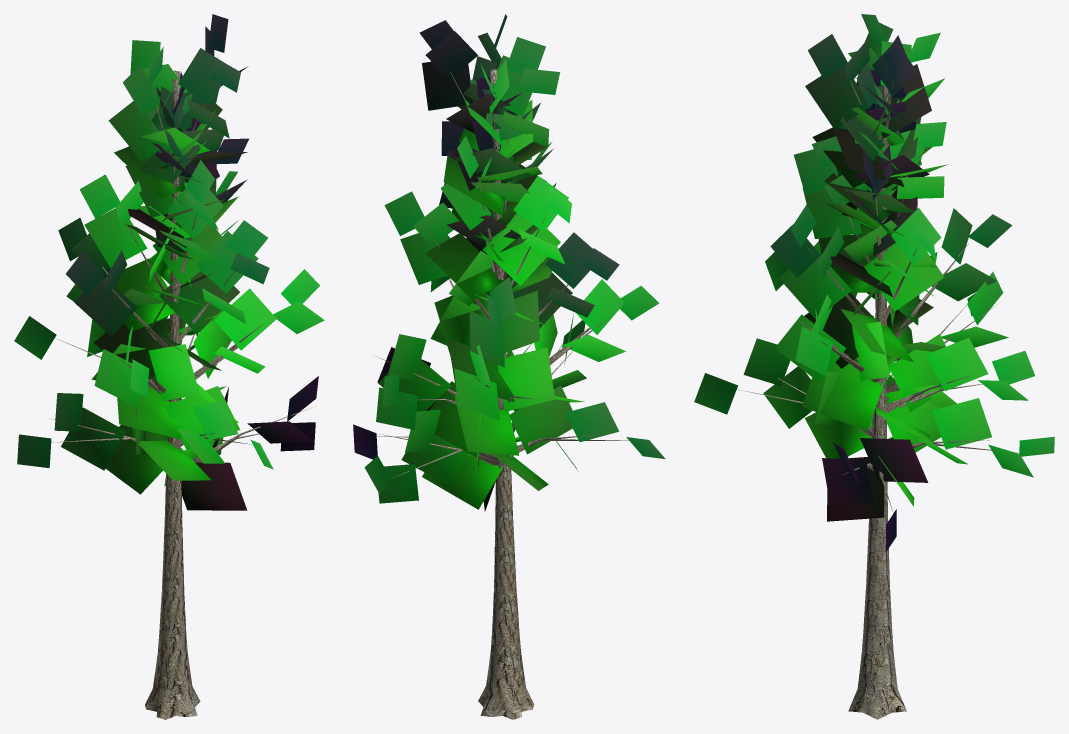
File: mapleLowPoly.fbx
3 views of the same model, side by side, from view 1: azimuth 30°, elevation 25°; view 2: azimuth 150°, elevation 25°; view 3: azimuth 270°, elevation 25° (orthographic). The views are drawn at different scales.
Parts seen in each view (by area): view 1: branch05_1, bark10-export_0; view 2: branch05_1, bark10-export_0; view 3: branch05_1, bark10-export_0.
Part boxes in pixels (<box>): branch05_1: <box>14,14,324,510</box>; bark10-export_0: <box>44,55,315,719</box>; branch05_1: <box>353,14,665,511</box>; bark10-export_0: <box>376,68,632,719</box>; branch05_1: <box>694,14,1054,551</box>; bark10-export_0: <box>738,52,1017,719</box>.
Size of the model in its own units: 3.48 by 7.38 by 3.46.
